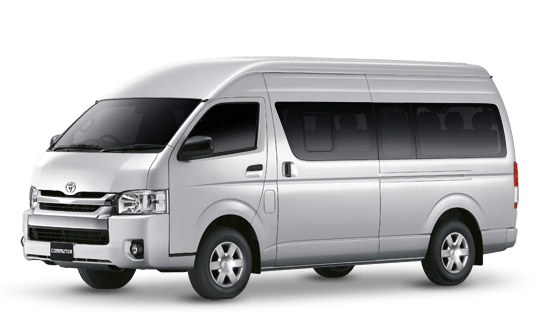van: (18, 54, 520, 302)
